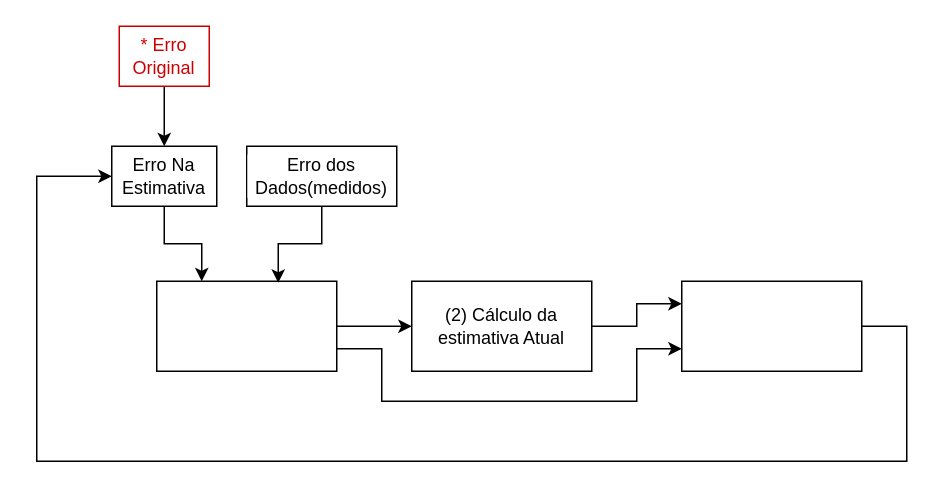
The diagram is 945 pixels wide and 500 high, and some of its shapes have lost their labels. The shapes that lost their labels are listed below. From the top down, each one's centre as x and y in pixels, then its label:
At point 246,325: "(1) Cálculo do Ganho Comum - Ganho de Kalman".
At point 771,325: "(3) Calculo de Novo Erro de Estimativa".
